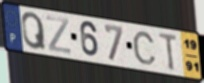6: (79, 19, 100, 60)
7: (103, 22, 125, 64)
C: (131, 30, 158, 66)
Q: (20, 11, 48, 51)
T: (158, 32, 179, 72)
Z: (45, 14, 72, 56)
